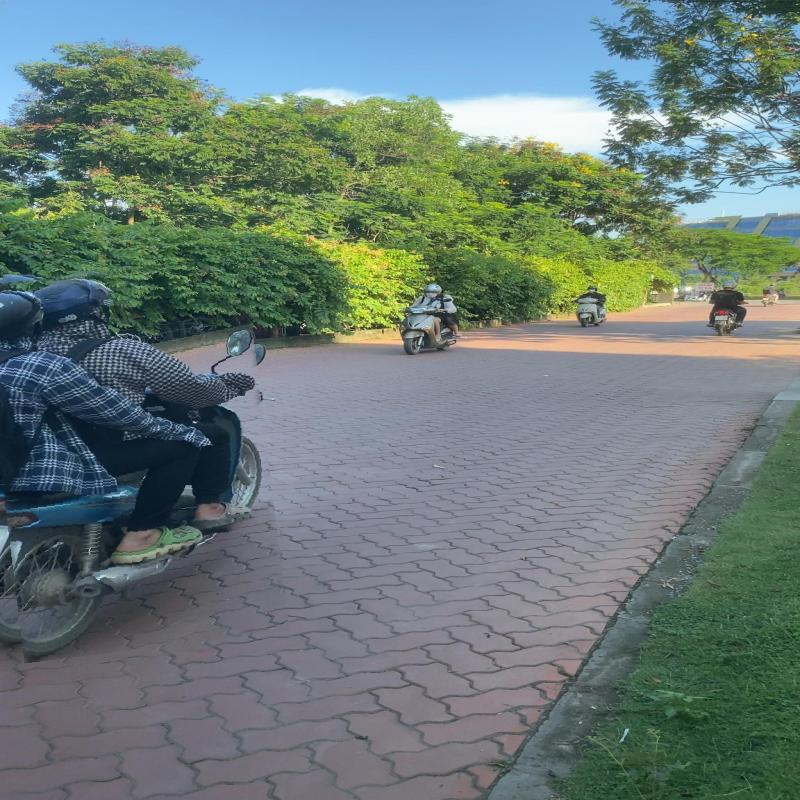helmet: (51, 272, 135, 316), (0, 272, 65, 321)
motorcyclist: (0, 261, 277, 655)
